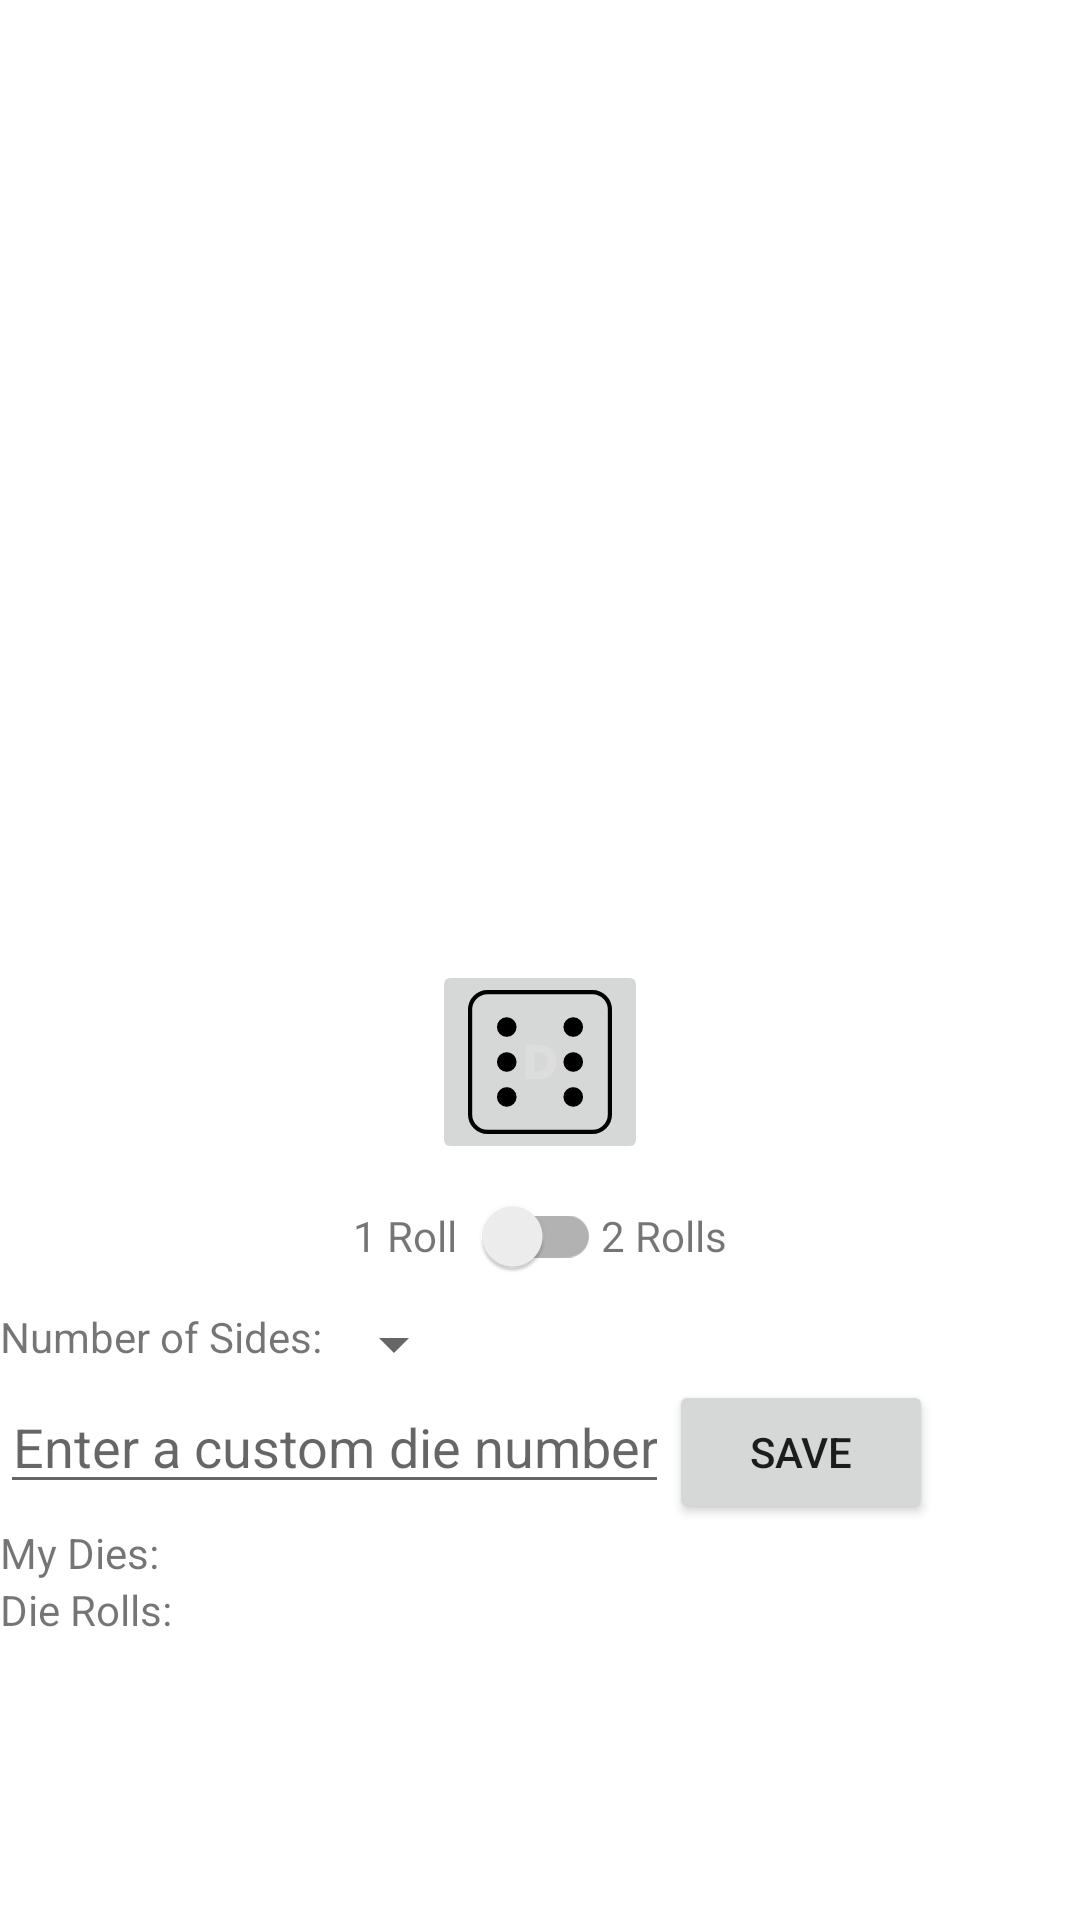

Named icons in this screenshot (1080w x 1920h) and their centers, [x,y]:
Die with side six up: [540,1062]
